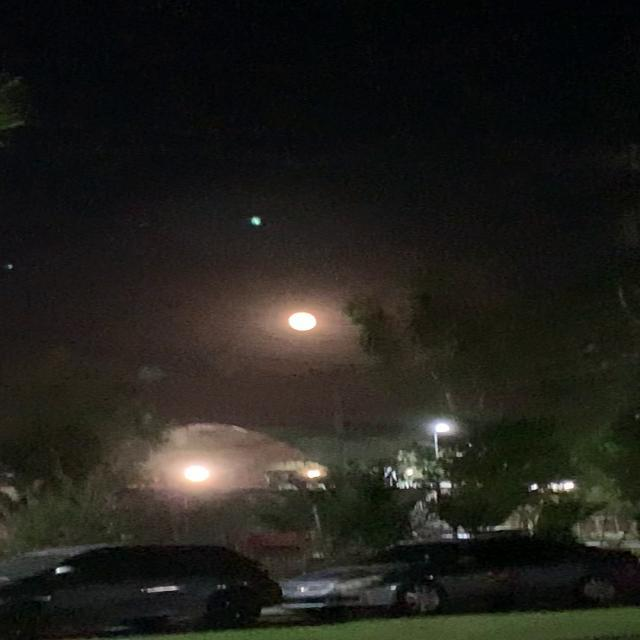moon: (286, 300, 338, 326)
